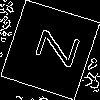Z: (24, 24, 81, 69)
